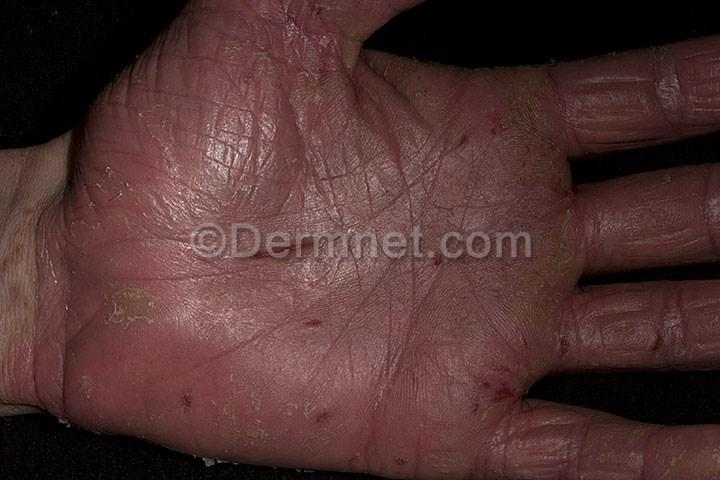Eczema: (229, 199, 362, 290), (103, 97, 210, 186), (5, 236, 85, 352), (95, 261, 186, 358), (497, 67, 577, 167), (70, 162, 156, 250), (508, 191, 591, 281), (247, 0, 362, 63), (184, 19, 259, 104), (216, 362, 282, 450), (452, 358, 528, 434), (653, 53, 720, 132), (268, 66, 347, 131), (575, 66, 642, 140), (405, 216, 464, 298), (373, 50, 444, 118), (562, 413, 632, 480), (639, 426, 720, 480), (59, 366, 124, 432), (506, 289, 573, 352), (436, 128, 496, 193), (592, 191, 653, 254), (294, 380, 346, 453), (371, 419, 434, 473), (282, 294, 338, 352), (495, 422, 555, 472), (662, 187, 713, 244), (162, 377, 219, 427)
